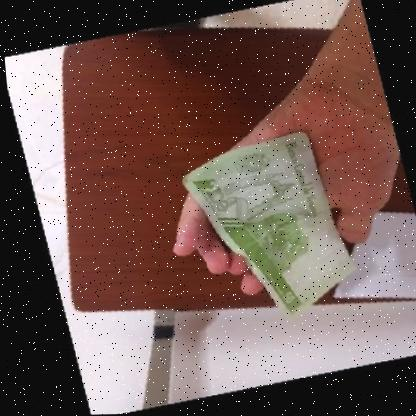fifty-back-vef: (173, 129, 359, 332)
